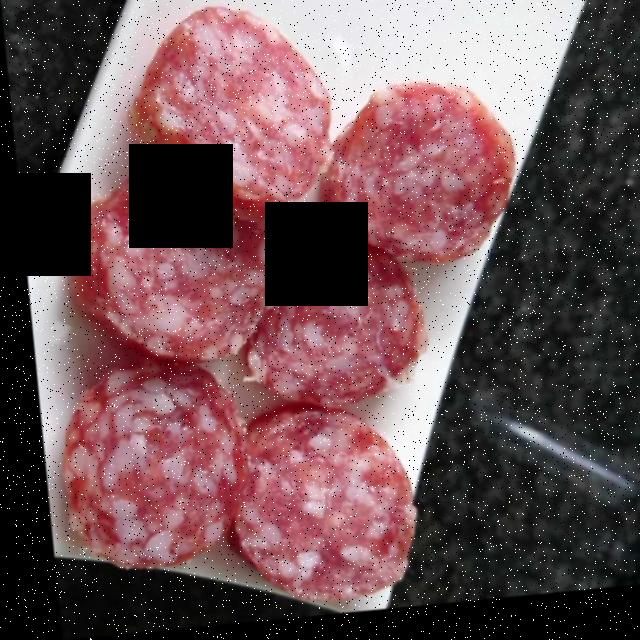salami: (66, 32, 497, 592)
